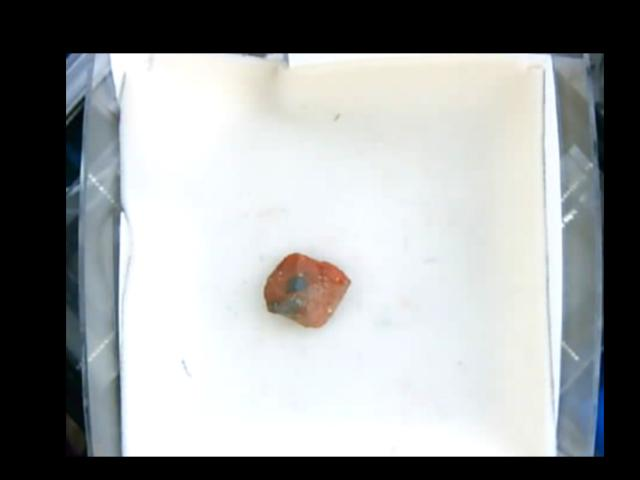Brisk: (261, 249, 351, 327)
